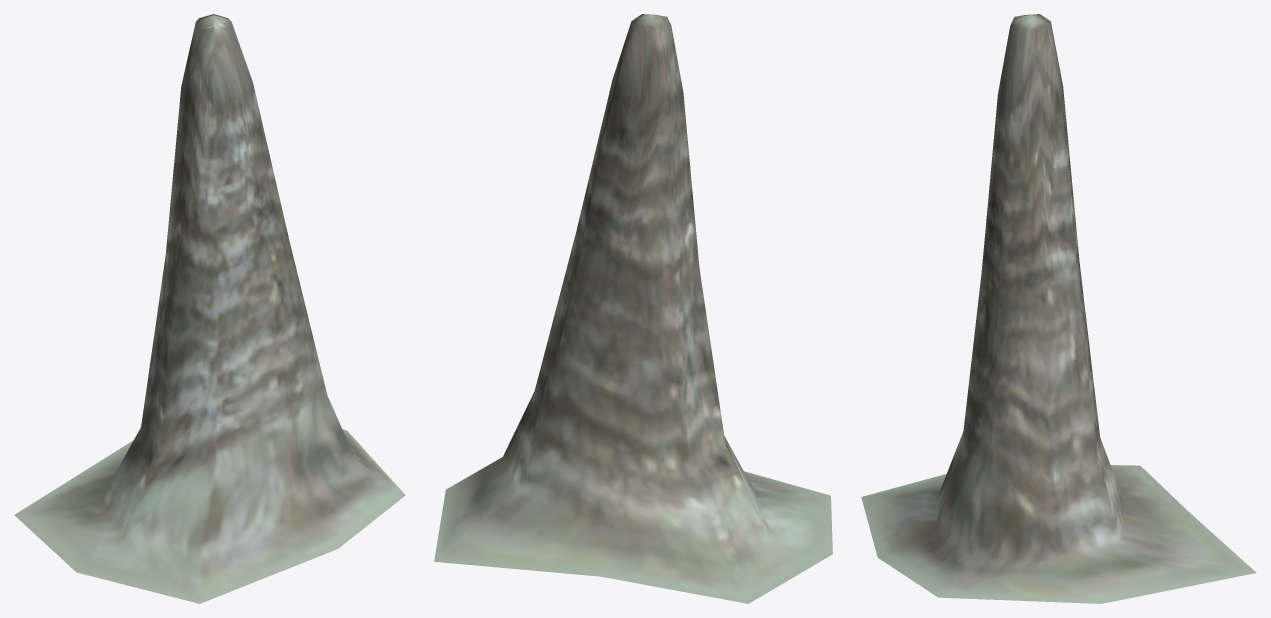
File: TROLLHOLE02_PS-MAINSTALAG59.fbx
3 views of the same model, side by side, from view 1: azimuth 30°, elevation 25°; view 2: azimuth 150°, elevation 25°; view 3: azimuth 270°, elevation 25° (orthographic). The views are drawn at different scales.
Visible parts, largest first — view 1: TROLLHOLE02_PS-MAINSTALAG59; view 2: TROLLHOLE02_PS-MAINSTALAG59; view 3: TROLLHOLE02_PS-MAINSTALAG59.
Part boxes in pixels (left/top/right/bottom): TROLLHOLE02_PS-MAINSTALAG59: left=14, top=14, right=405, bottom=603; TROLLHOLE02_PS-MAINSTALAG59: left=434, top=14, right=832, bottom=603; TROLLHOLE02_PS-MAINSTALAG59: left=861, top=14, right=1256, bottom=603.
Size of the model in its own units: 26163 by 38962 by 26348.
1 material, 1 textured.
